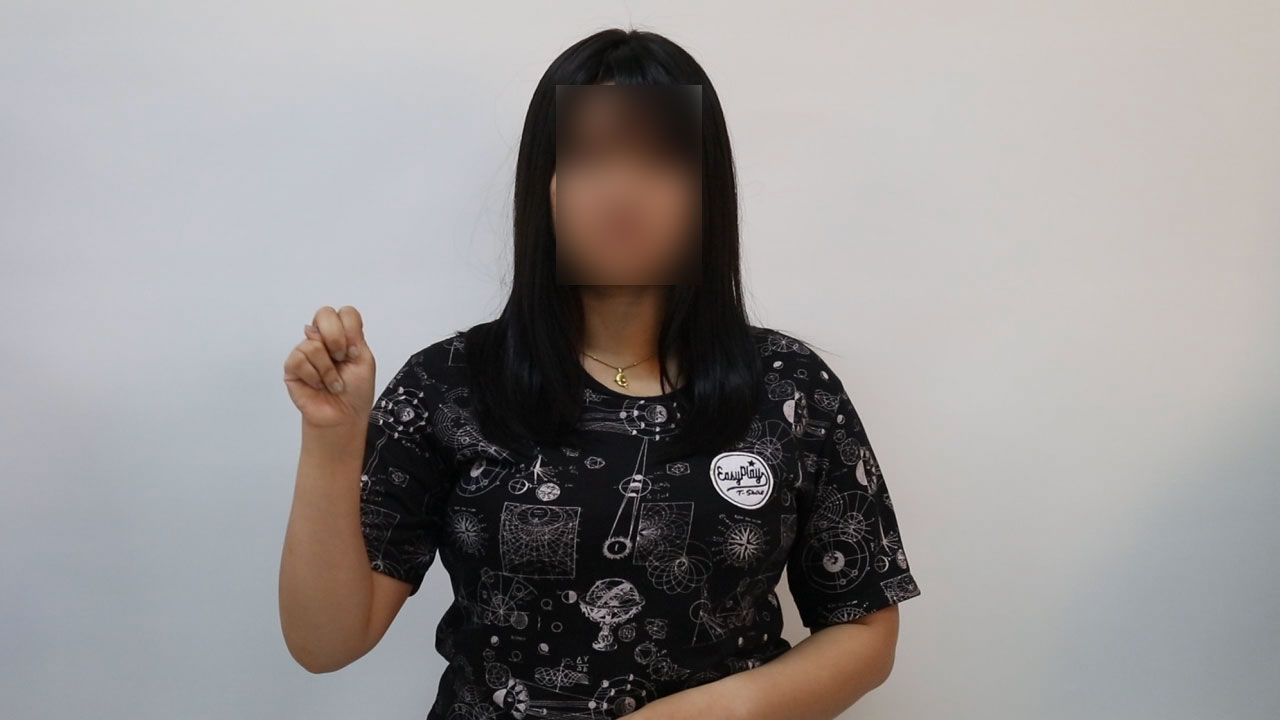nor: (273, 291, 390, 452)
